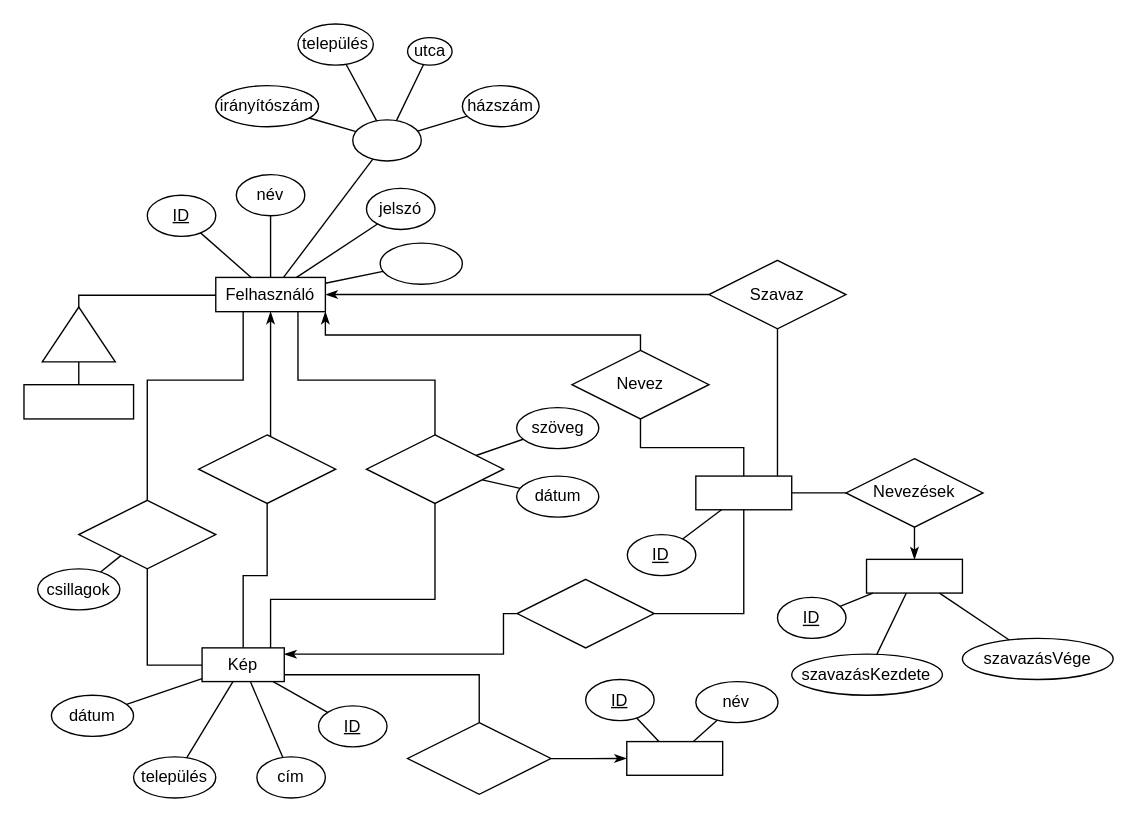
Some shapes in this 1137 by 822 pixel diagram are drawn without their labels. Here are the shapes that lost their labels. From the top down, the box of each, then its label:
(351, 119, 421, 161): lakcím
(379, 242, 462, 284): email
(23, 383, 134, 419): Admin
(197, 434, 336, 503): Feltöltötte
(365, 434, 503, 503): Kommentelte
(694, 475, 792, 510): Nevezés
(77, 499, 216, 569): Értékelte
(865, 558, 962, 593): Verseny
(516, 578, 654, 648): Megjelölt
(406, 721, 551, 794): Tartozik
(625, 740, 723, 775): Kategória
